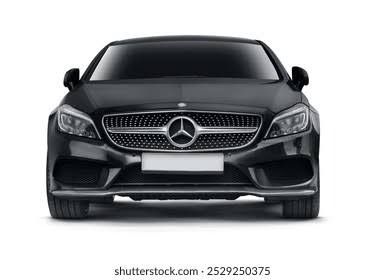car: (38, 31, 322, 214)
